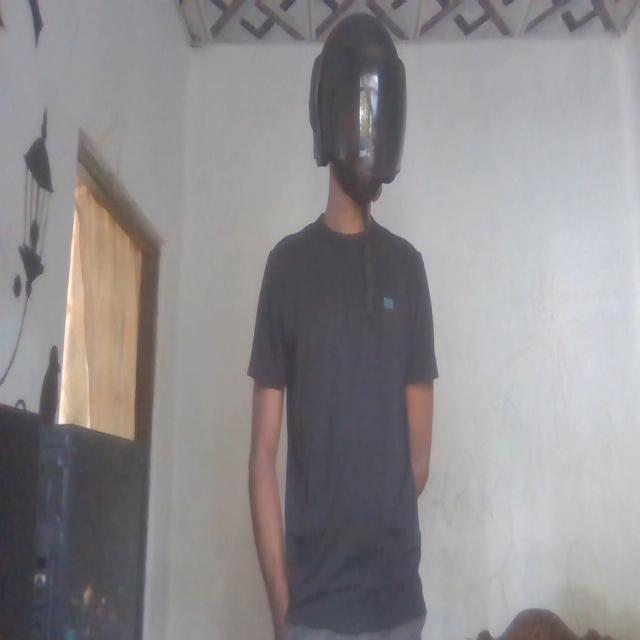Helmet_Wearer: (304, 4, 412, 260)
Person: (246, 2, 452, 640)
